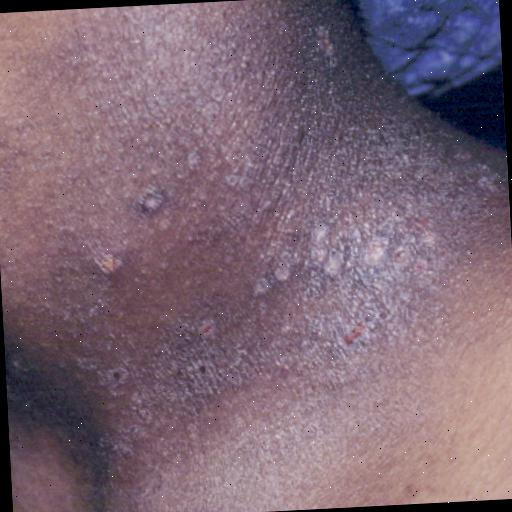Skin_Lesion: (308, 230, 353, 290), (127, 174, 168, 238), (238, 259, 302, 300), (361, 230, 398, 284), (194, 314, 230, 349), (330, 324, 376, 350), (94, 252, 124, 274)
